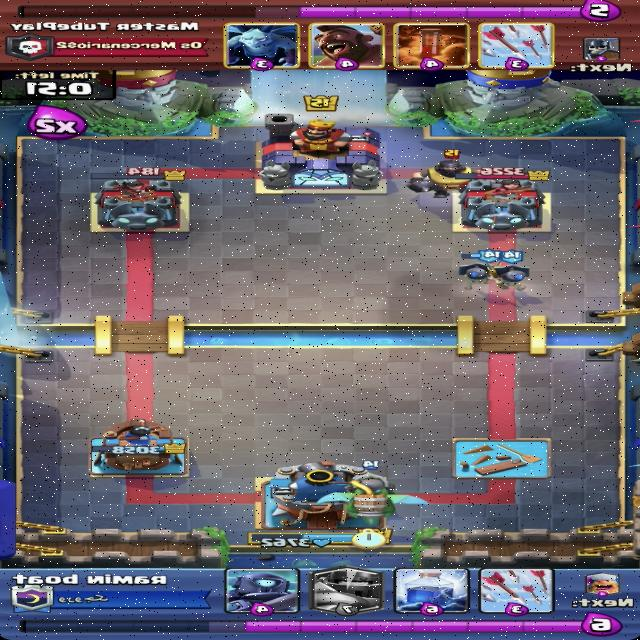Enemy-MegaKnight: (401, 148, 497, 199)
Player-Guard: (458, 248, 503, 291), (485, 249, 531, 291)
Player-InfernoDragon: (317, 460, 431, 526)
